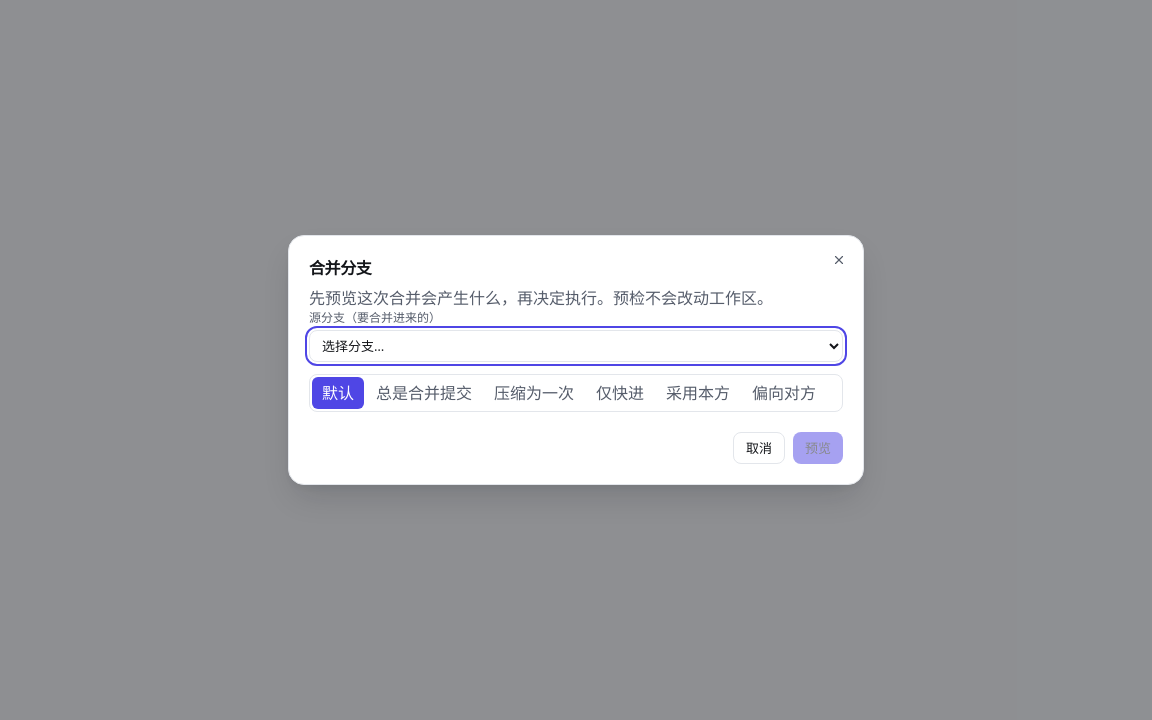
Scenario: MergeDialog › 预检到冲突时展示冲突文件清单（而不是等执行才报错）
Select "feature" in the dropdown with test id "merge-source" at (576, 346), box [309,330,843,362]
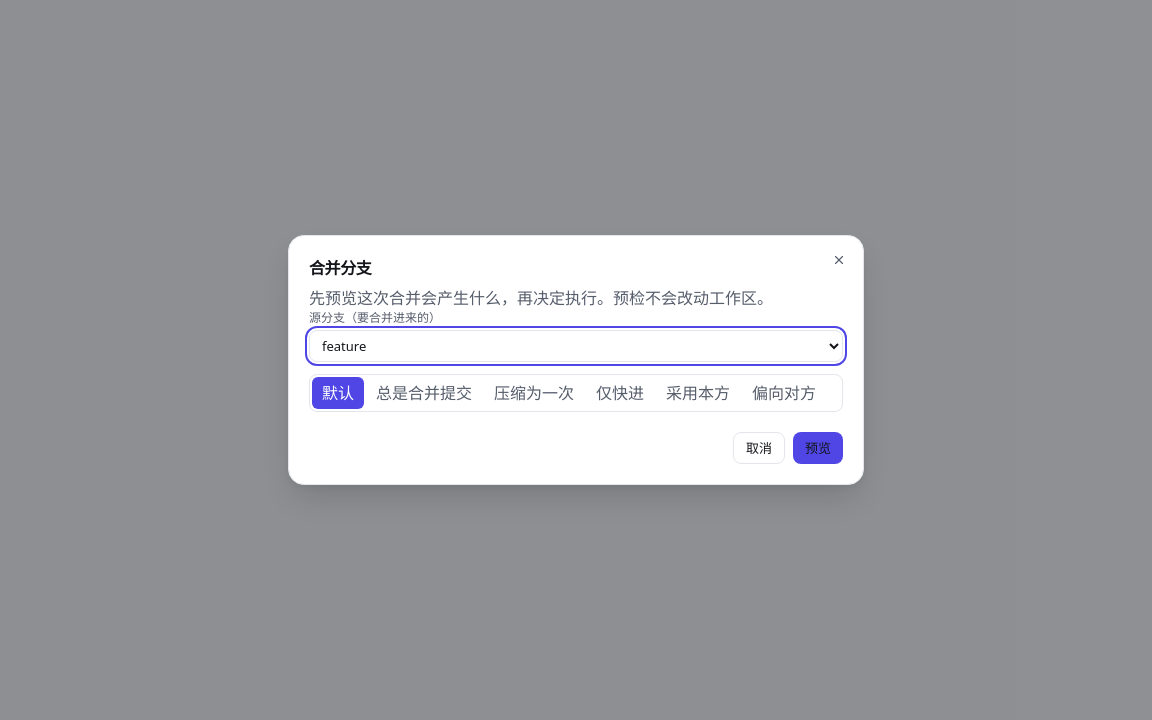
Click the button with test id "merge-preview" at (818, 448), box [793,432,843,464]
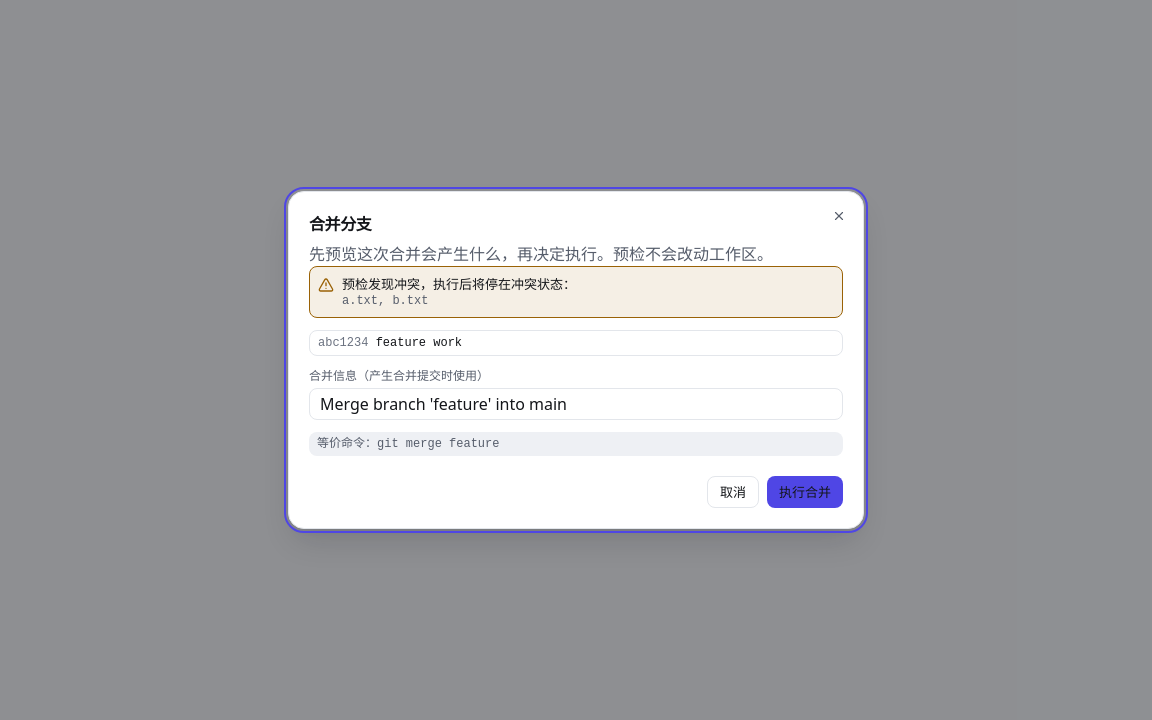
Now the element with test id "merge-conflicts" shows "a.txt, b.txt", box [342,294,428,308]
